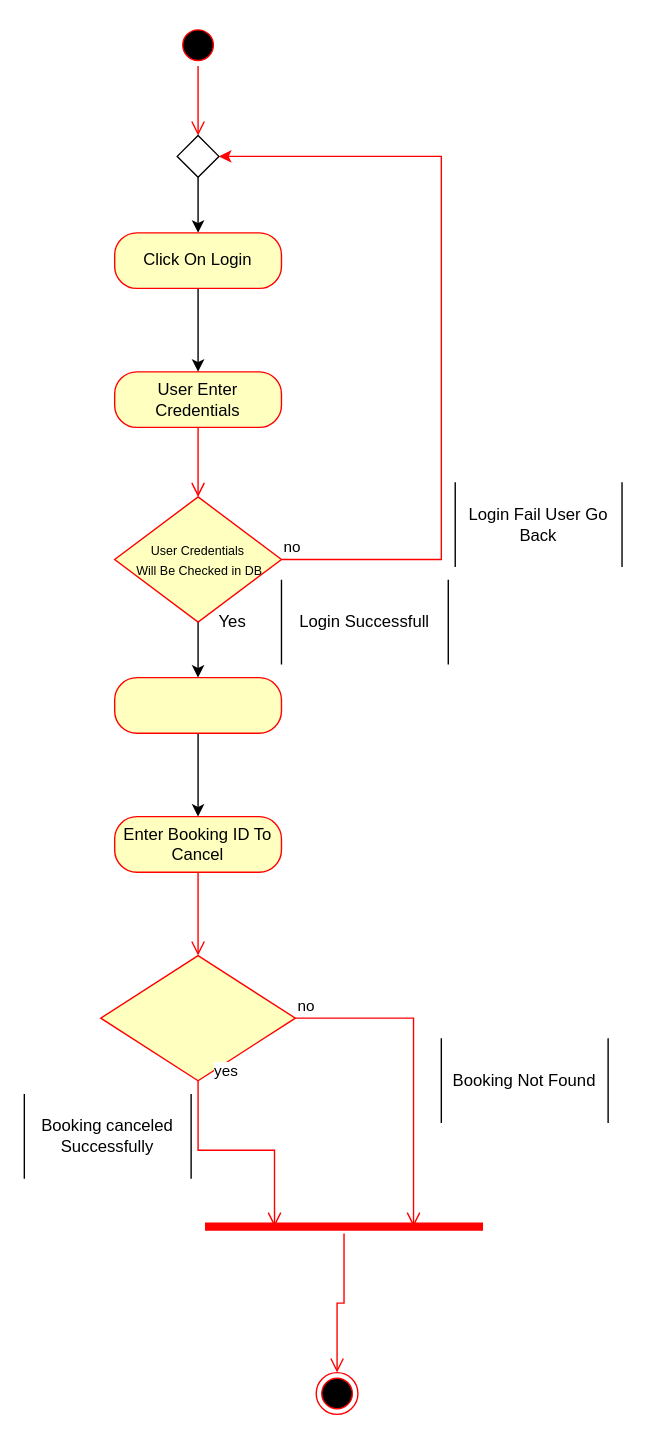
This 646x1439 diagram has some shape labels left out. Each missing label, with the centre of its shape:
Booking ID Will Be Matched: (x=197, y=1017)
Click On Cancel Booking: (x=197, y=704)
